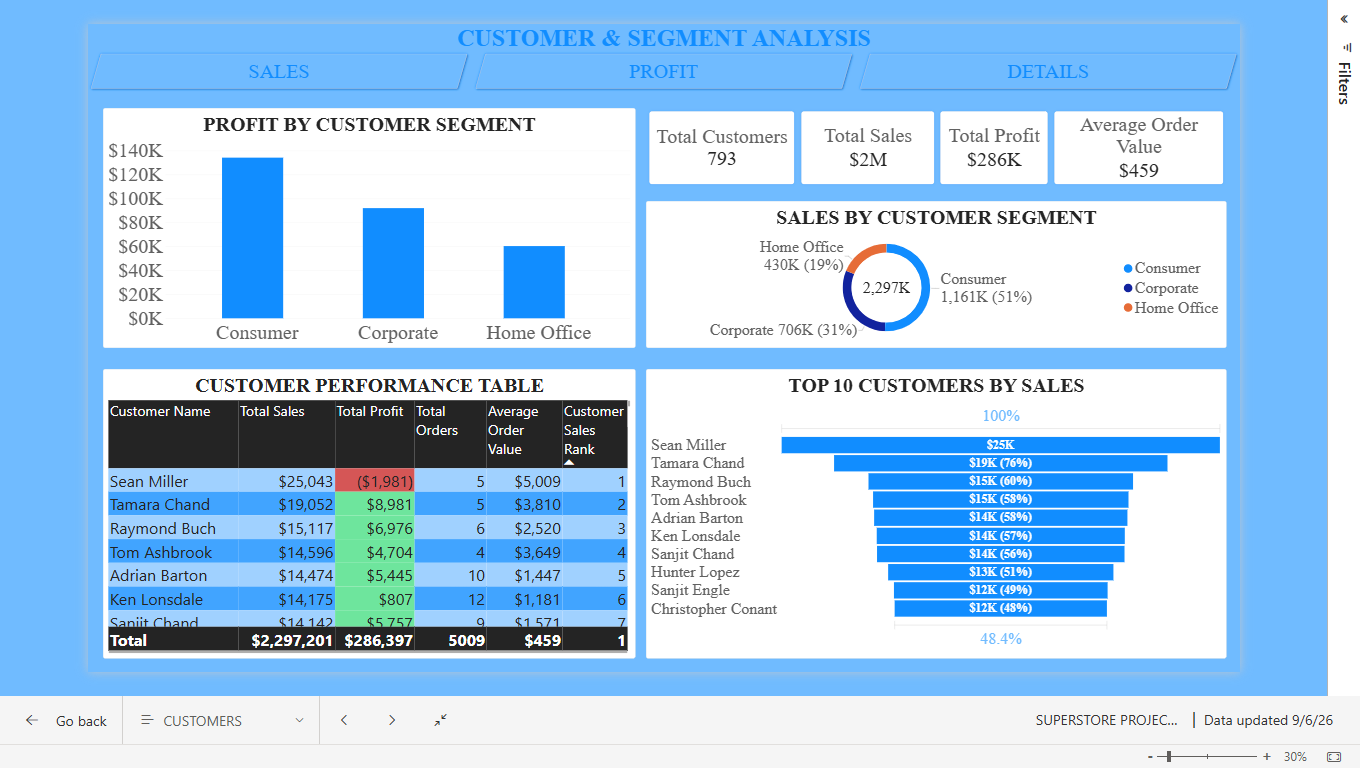

What the dashboard file says about the page in this screenshot:
{"tool":"powerbi","page":{"name":"CUSTOMERS","canvas":[3840,2160],"ordinal":2},"visuals":[{"type":"donutChart","title":"SALES BY CUSTOMER SEGMENT","fields":{"Category":["Sample - Superstore.Segment"],"Y":["Date.Total Sales"]},"box":[1860,590,1935,490],"z":0},{"type":"clusteredColumnChart","title":"PROFIT BY CUSTOMER SEGMENT","fields":{"Category":["Sample - Superstore.Segment"],"Y":["Date.Total Profit"]},"box":[50,280,1775,800],"z":1000},{"type":"tableEx","title":"CUSTOMER PERFORMANCE TABLE","fields":{"Values":["Sample - Superstore.Customer Name","Date.Total Sales","Date.Total Profit","Date.Total Orders","Date.Average Order Value","Date.Customer Sales Rank"]},"box":[50,1150,1775,965],"z":2000},{"type":"textbox","box":[0,0,3840,95],"z":3000},{"type":"cardVisual","fields":{"Data":["Date.Total Customers"]},"box":[1860,280,505,265],"z":4000},{"type":"cardVisual","fields":{"Data":["Date.Total Sales"]},"box":[2365,280,465,265],"z":5000},{"type":"cardVisual","fields":{"Data":["Date.Total Profit"]},"box":[2830,280,380,265],"z":6000},{"type":"cardVisual","fields":{"Data":["Date.Average Order Value"]},"box":[3210,280,585,265],"z":7000},{"type":"funnel","title":"TOP 10 CUSTOMERS BY SALES","fields":{"Category":["Sample - Superstore.Customer Name"],"Y":["Date.Total Sales"]},"box":[1860,1150,1935,965],"z":8000},{"type":"pageNavigator","box":[0,90,3840,135],"z":9000}]}

Visuals, with their boxes on the page's 3840x2160 design canvas (x1, y1, x2, y2). These are canvas units, not pixel positions in the 1360x768 screenshot, which may show the page scaled, cropped or inside an application window:
"SALES BY CUSTOMER SEGMENT" donutChart: bbox=[1860, 590, 3795, 1080]
"PROFIT BY CUSTOMER SEGMENT" clusteredColumnChart: bbox=[50, 280, 1825, 1080]
"CUSTOMER PERFORMANCE TABLE" tableEx: bbox=[50, 1150, 1825, 2115]
textbox: bbox=[0, 0, 3840, 95]
cardVisual - Date.Total Customers: bbox=[1860, 280, 2365, 545]
cardVisual - Date.Total Sales: bbox=[2365, 280, 2830, 545]
cardVisual - Date.Total Profit: bbox=[2830, 280, 3210, 545]
cardVisual - Date.Average Order Value: bbox=[3210, 280, 3795, 545]
"TOP 10 CUSTOMERS BY SALES" funnel: bbox=[1860, 1150, 3795, 2115]
pageNavigator: bbox=[0, 90, 3840, 225]
